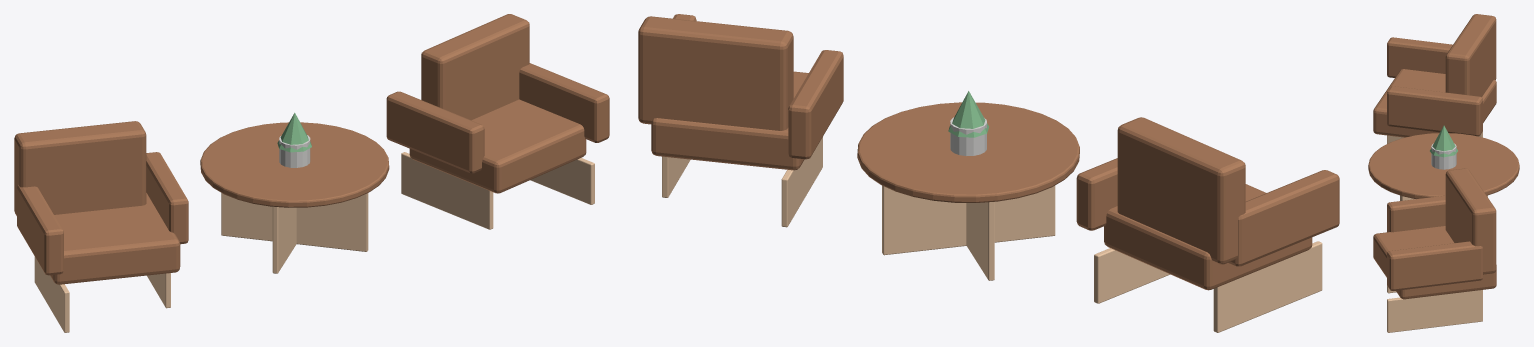
File: office_lounge_seating_reference_board_46_iter_1.glb
The picture shows the model from 3 angles, left to right: view 1: azimuth 30°, elevation 25°; view 2: azimuth 150°, elevation 25°; view 3: azimuth 270°, elevation 25°; orthographic projection. The views are drawn at different scales.
Visible parts, largest first — view 1: Cylinder; view 2: Cylinder; view 3: Cylinder.
Part boxes in pixels (x1,y1,x2,y2): Cylinder: (14, 14, 609, 332); Cylinder: (638, 14, 1339, 332); Cylinder: (1368, 14, 1519, 332).
Size of the model in its own units: 2.89 by 0.72 by 0.84.
